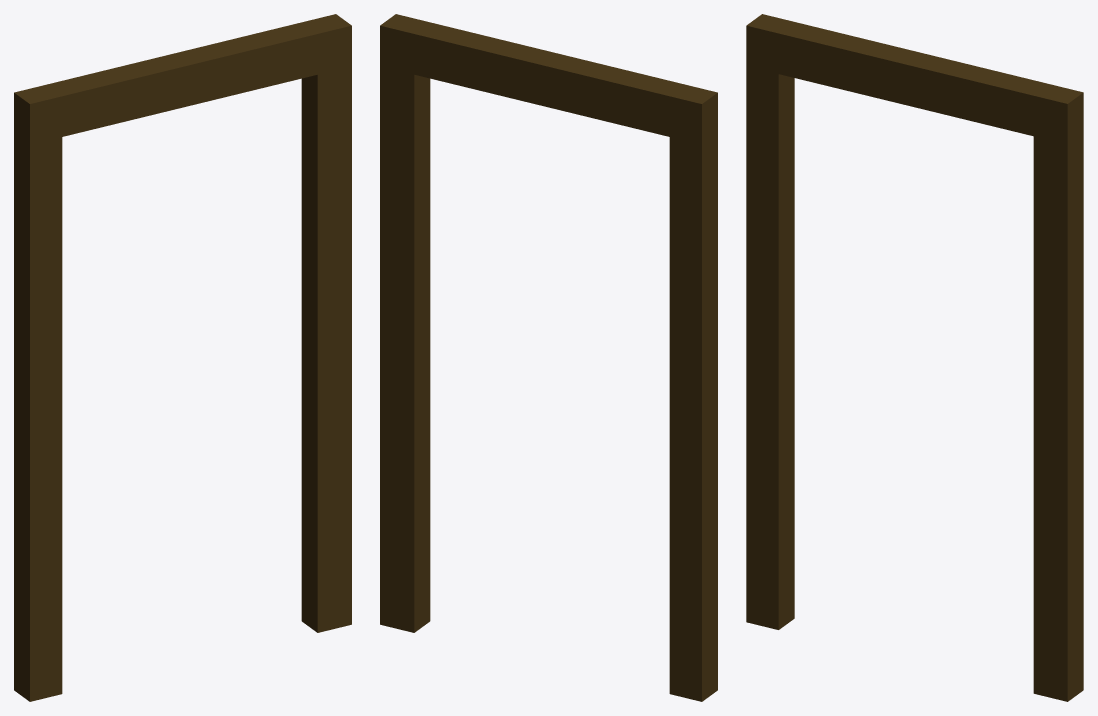
File: Door.glb
3 renders of one model, left to right at view 1: azimuth 30°, elevation 25°; view 2: azimuth 150°, elevation 25°; view 3: azimuth 330°, elevation 25°, orthographic.
Parts seen in each view (by area): view 1: buffer-0-mesh-0; view 2: buffer-0-mesh-0; view 3: buffer-0-mesh-0.
Boxes of the visible parts, <box> form: buffer-0-mesh-0: <box>14,14,351,701</box>; buffer-0-mesh-0: <box>380,14,717,701</box>; buffer-0-mesh-0: <box>746,14,1083,701</box>.
Bounding box in the file's own units: 37.28 × 66.27 × 3.19.
